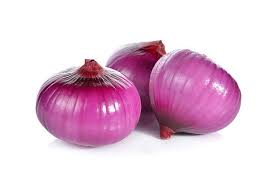onion: (35, 59, 142, 148), (149, 49, 241, 139)
